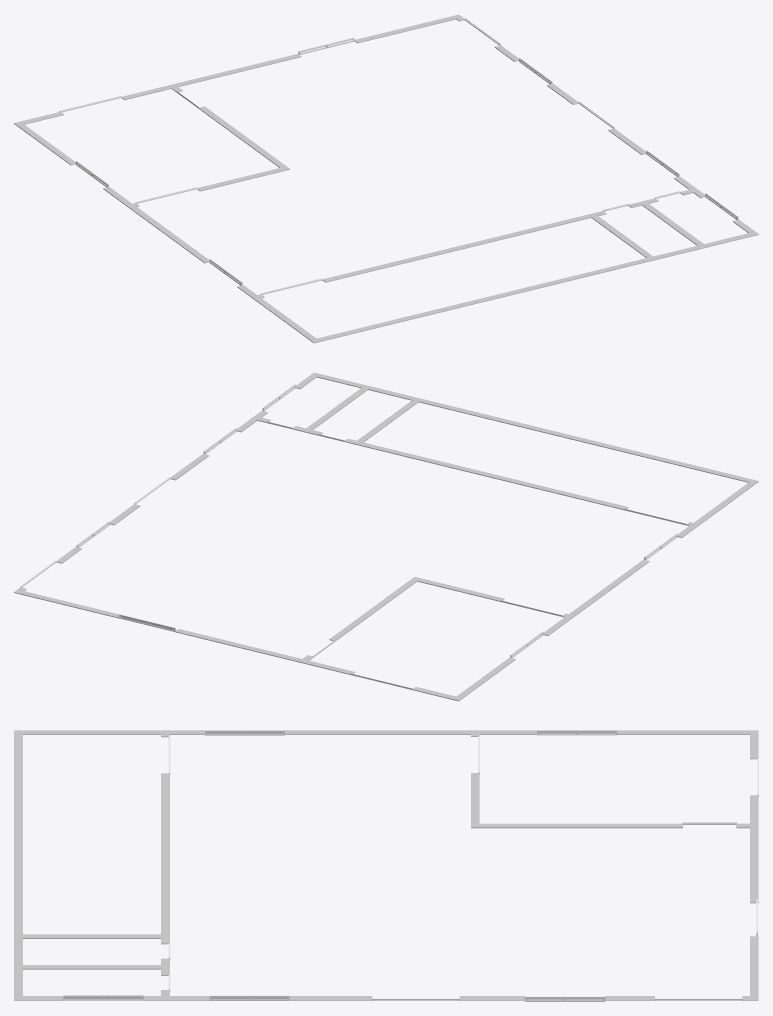
The model's file is VV_VERH_GLB.glb.
3 renders of one model, top to bottom at view 1: azimuth 30°, elevation 25°; view 2: azimuth 150°, elevation 25°; view 3: azimuth 270°, elevation 25°, orthographic. The views are drawn at different scales.
Size of the model in its own units: 0.0358 by 0.00038 by 0.0418.
